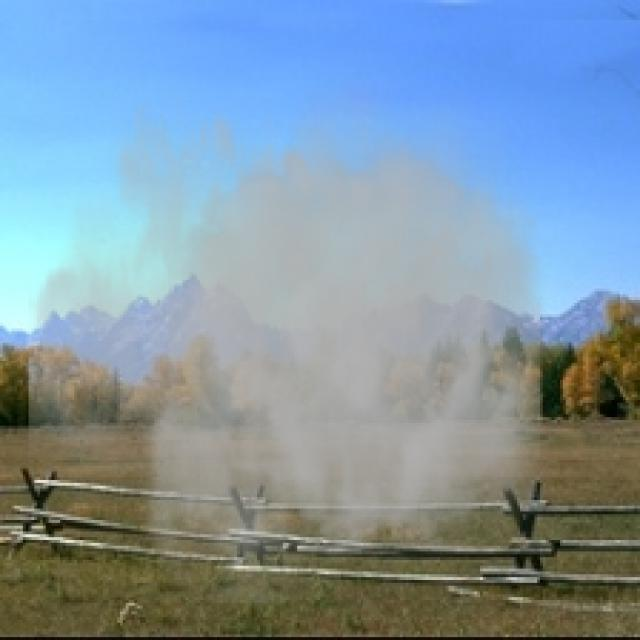Smoke: (28, 48, 574, 603)
